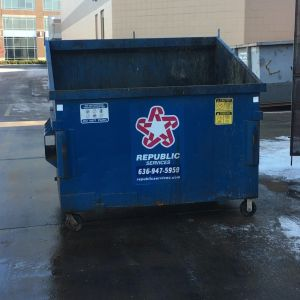Dumpster: (42, 30, 268, 233)
